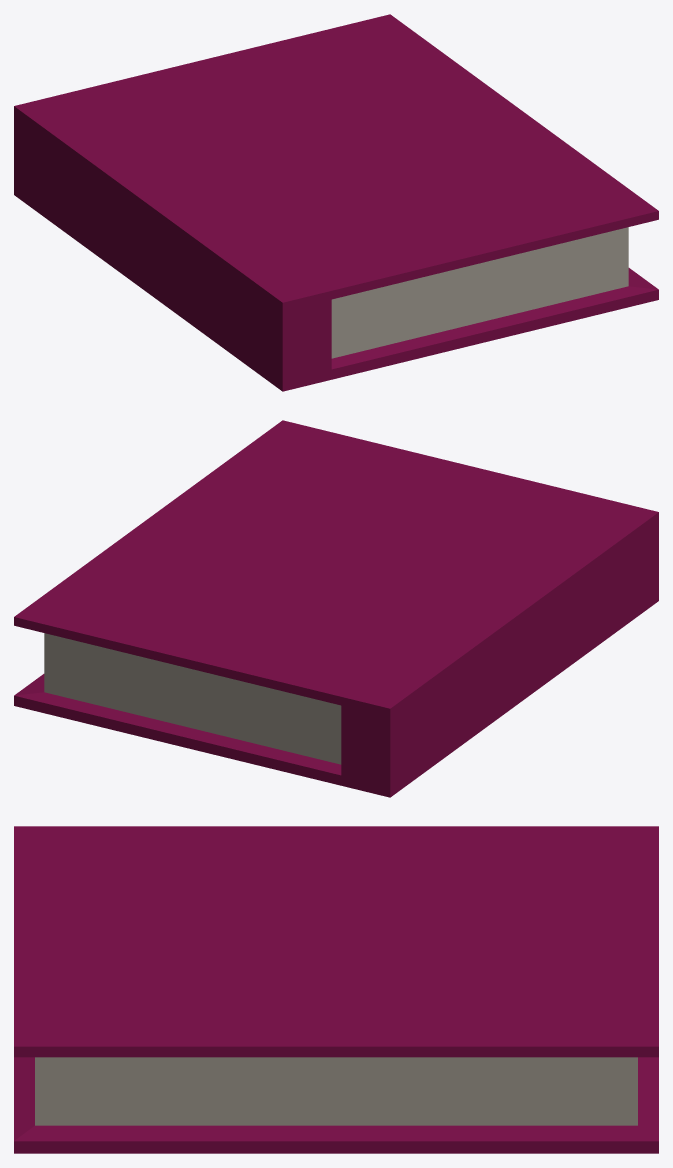
The model's file is horizontal book 2.fbx.
3 views of the same model, one above another, from view 1: azimuth 30°, elevation 25°; view 2: azimuth 150°, elevation 25°; view 3: azimuth 270°, elevation 25° (orthographic). The views are drawn at different scales.
Parts seen in each view (by area): view 1: horizontal_book1; view 2: horizontal_book1; view 3: horizontal_book1.
Boxes of the visible parts, x1,y1,x2,y2 form: horizontal_book1: [14, 14, 658, 391]; horizontal_book1: [14, 420, 658, 797]; horizontal_book1: [14, 826, 658, 1153].
Bounding box in the file's own units: 1.65 × 0.3735 × 2.05.
